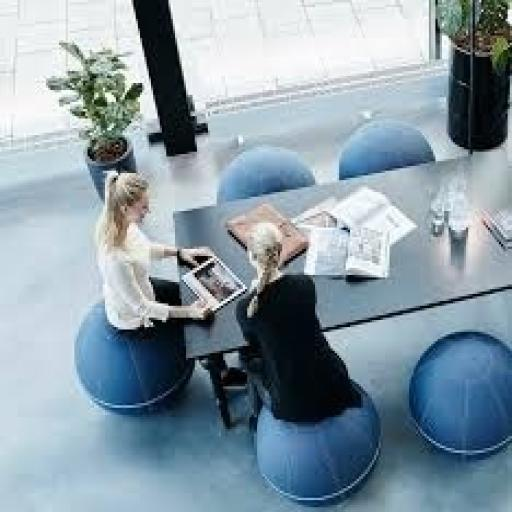sitting: (232, 218, 365, 424)
